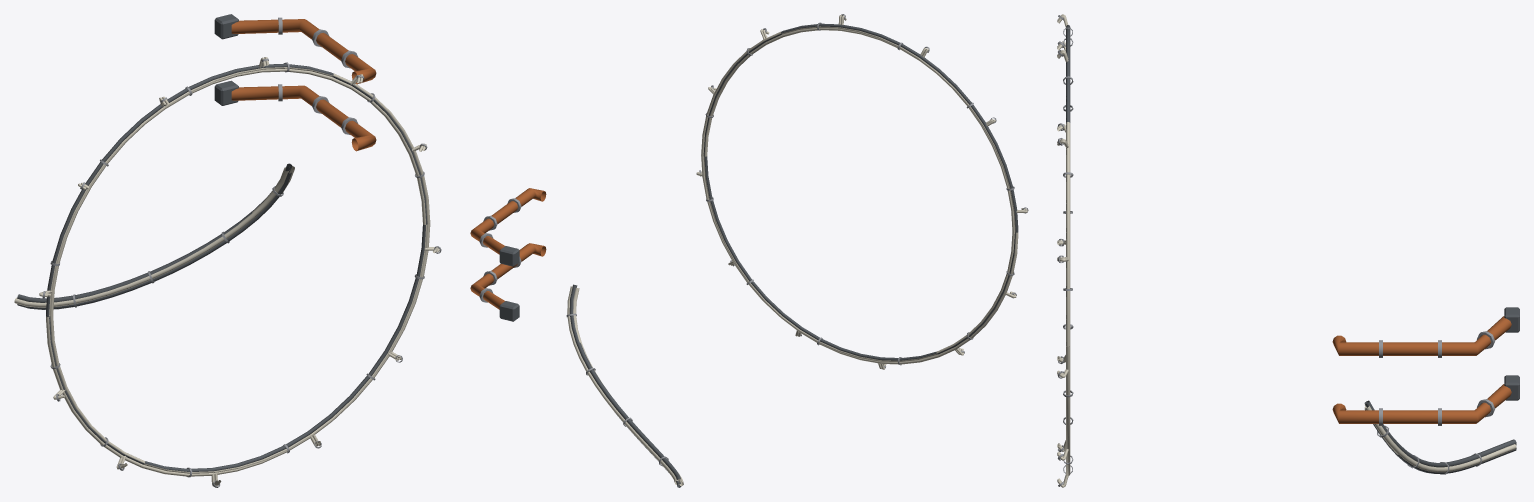
The model's file is cr1_harness.obj.
3 renders of one model, left to right at view 1: azimuth 30°, elevation 25°; view 2: azimuth 150°, elevation 25°; view 3: azimuth 270°, elevation 25°, orthographic. The views are drawn at different scales.
Visible parts, largest first — view 1: cr1_harness; view 2: cr1_harness; view 3: cr1_harness.
Boxes of the visible parts, x1,y1,x2,y2 form: cr1_harness: (14, 14, 441, 487); cr1_harness: (470, 14, 1028, 487); cr1_harness: (1057, 14, 1519, 487).
Bounding box in the file's own units: 3.96 × 3.33 × 3.28.
